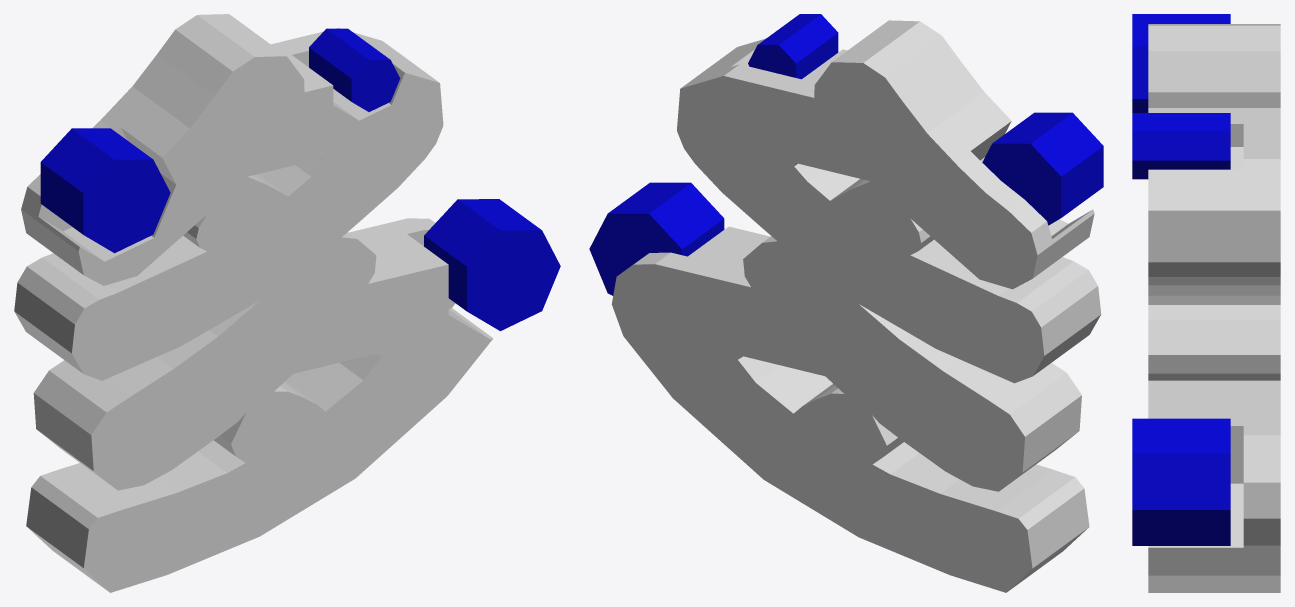
The model's file is Ch_Lite_China_多_01.fbx.
3 views of the same model, side by side, from view 1: azimuth 30°, elevation 25°; view 2: azimuth 150°, elevation 25°; view 3: azimuth 270°, elevation 25° (orthographic). The views are drawn at different scales.
Visible parts, largest first — view 1: sphere1; view 2: sphere1; view 3: sphere1.
Boxes of the visible parts, x1,y1,x2,y2 form: sphere1: (14, 14, 560, 592); sphere1: (589, 14, 1103, 592); sphere1: (1132, 14, 1280, 592).
Size of the model in its own units: 0.9656 by 0.9585 by 0.2242.
